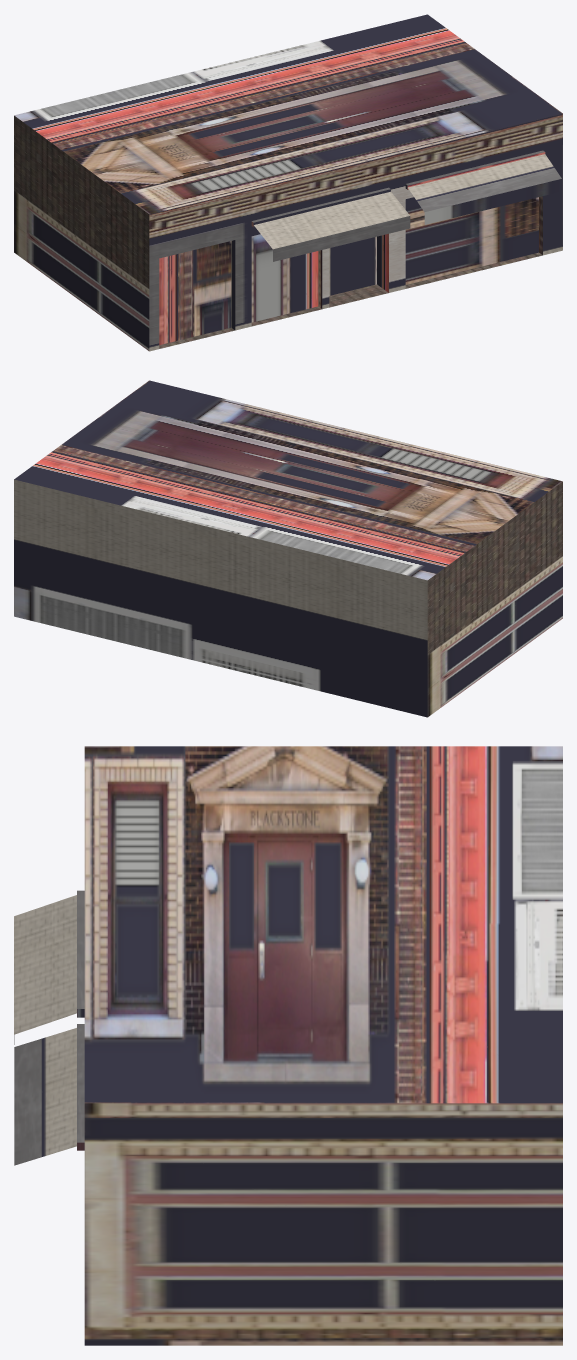
The picture shows the model from 3 angles, top to bottom: view 1: azimuth 30°, elevation 25°; view 2: azimuth 150°, elevation 25°; view 3: azimuth 270°, elevation 25°; orthographic projection. The views are drawn at different scales.
Parts seen in each view (by area): view 1: sushishop; view 2: sushishop; view 3: sushishop.
Part boxes in pixels (box(x1,y1,x2,y2)): sushishop: box(14, 14, 562, 351); sushishop: box(14, 380, 562, 717); sushishop: box(14, 746, 562, 1345).
Bounding box in the file's own units: 6 × 1.9 × 3.9.
